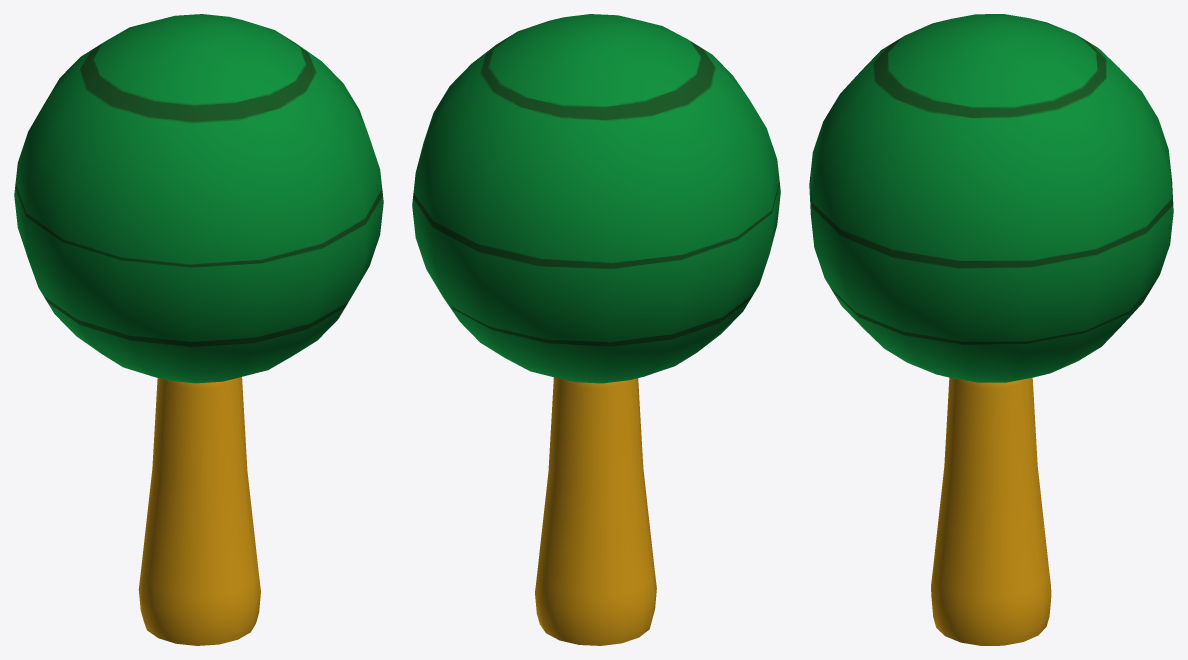
The model's file is Tree.fbx.
The picture shows the model from 3 angles, left to right: view 1: azimuth 30°, elevation 25°; view 2: azimuth 150°, elevation 25°; view 3: azimuth 270°, elevation 25°; orthographic projection.
Visible parts, largest first — view 1: Foliage, Trunk; view 2: Foliage, Trunk; view 3: Foliage, Trunk.
Boxes of the visible parts, x1,y1,x2,y2 form: Foliage: [14, 14, 383, 383]; Trunk: [138, 377, 260, 645]; Foliage: [412, 14, 780, 383]; Trunk: [535, 377, 656, 645]; Foliage: [809, 14, 1173, 382]; Trunk: [931, 377, 1051, 645].
Size of the model in its own units: 1.04 by 1.86 by 1.04.
